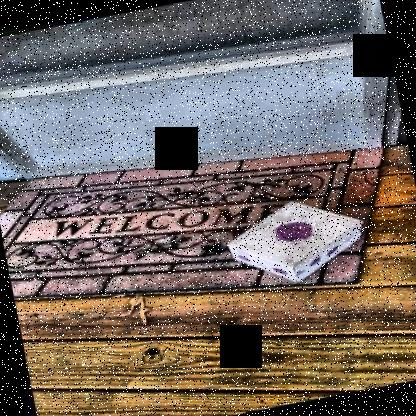no defect parcel: (218, 182, 393, 296)
